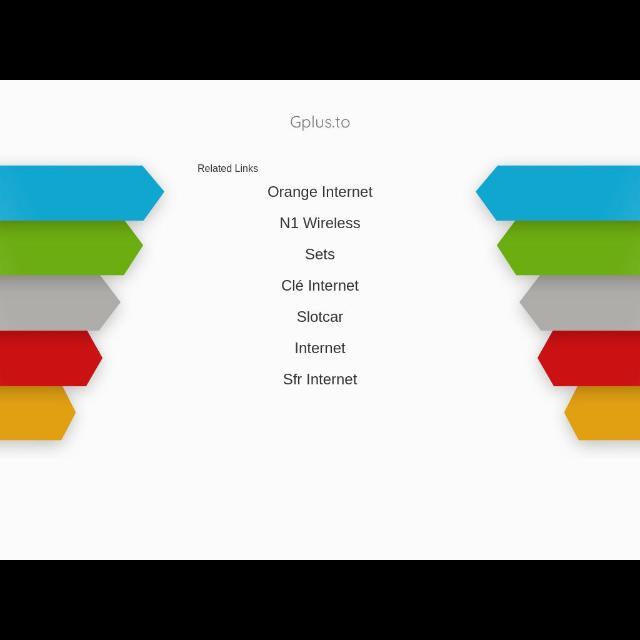image: (1, 166, 163, 440), (477, 166, 639, 440)
text: (267, 184, 373, 200), (280, 217, 360, 231), (290, 113, 352, 131), (282, 279, 358, 293), (284, 374, 358, 386), (198, 162, 260, 174), (296, 311, 344, 325), (294, 342, 346, 354), (306, 248, 334, 262)
